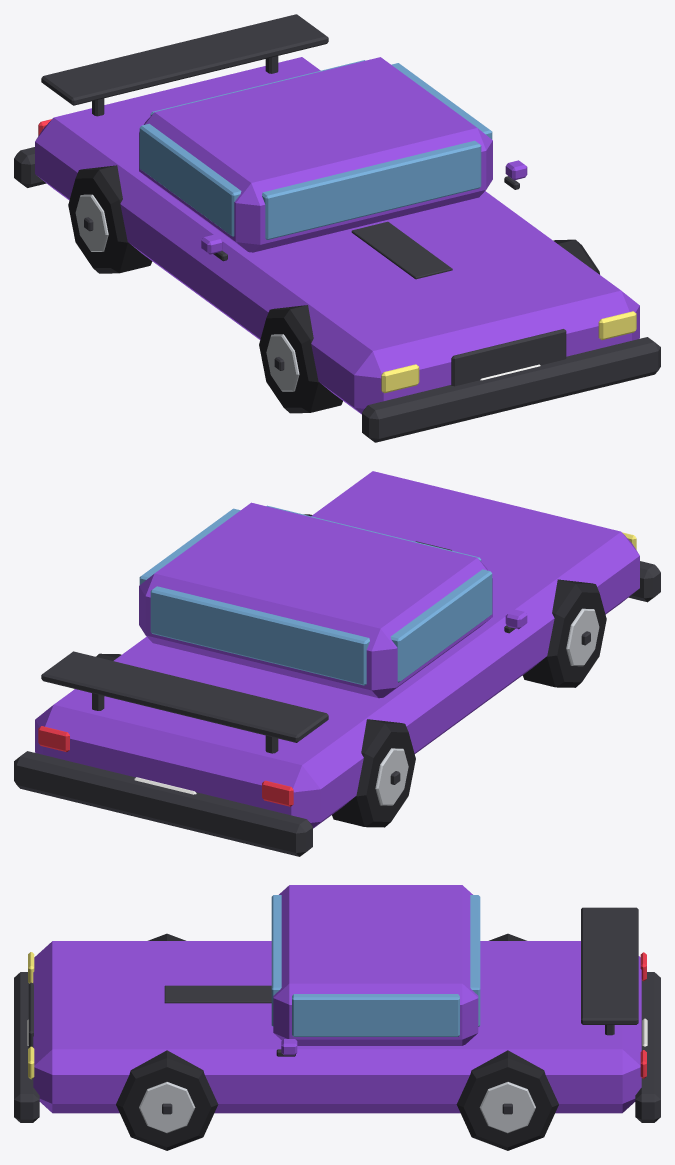
Rendered from PurpleSportsCar.fbx.
3 renders of one model, top to bottom at view 1: azimuth 30°, elevation 25°; view 2: azimuth 150°, elevation 25°; view 3: azimuth 270°, elevation 25°, orthographic. The views are drawn at different scales.
Visible parts, largest first — view 1: PurpleSportsCar, PurpleSportsCar_WheelBR, PurpleSportsCar_WheelFR; view 2: PurpleSportsCar, PurpleSportsCar_WheelBR, PurpleSportsCar_WheelFR; view 3: PurpleSportsCar, PurpleSportsCar_WheelBL, PurpleSportsCar_WheelFL.
Boxes of the visible parts, <box> form: PurpleSportsCar: <box>14,14,660,442</box>; PurpleSportsCar_WheelBR: <box>68,165,152,273</box>; PurpleSportsCar_WheelFR: <box>259,305,342,413</box>; PurpleSportsCar: <box>14,471,660,856</box>; PurpleSportsCar_WheelBR: <box>332,719,415,827</box>; PurpleSportsCar_WheelFR: <box>522,579,606,687</box>; PurpleSportsCar: <box>14,885,660,1122</box>; PurpleSportsCar_WheelBL: <box>456,1050,558,1150</box>; PurpleSportsCar_WheelFL: <box>116,1050,218,1150</box>.
Bounding box in the file's own units: 5.15 × 2.66 × 10.1.
Materials: 1 (1 with a texture image).
